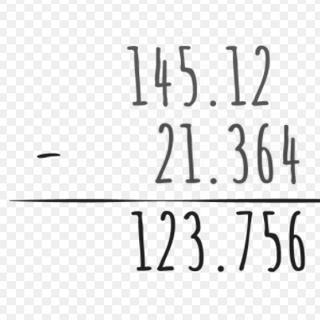.: (203, 91, 220, 111), (204, 168, 219, 187), (213, 257, 228, 274)
1: (121, 38, 149, 110), (221, 38, 248, 112), (177, 118, 202, 191), (127, 206, 152, 279)
2: (146, 118, 179, 189), (248, 41, 275, 110), (153, 205, 178, 275)
3: (179, 206, 208, 274), (223, 120, 251, 188)
4: (275, 116, 303, 192), (150, 43, 176, 111)
5: (254, 204, 283, 278), (174, 39, 199, 112)
6: (282, 205, 312, 281), (253, 118, 277, 191)
7: (230, 207, 255, 277)
